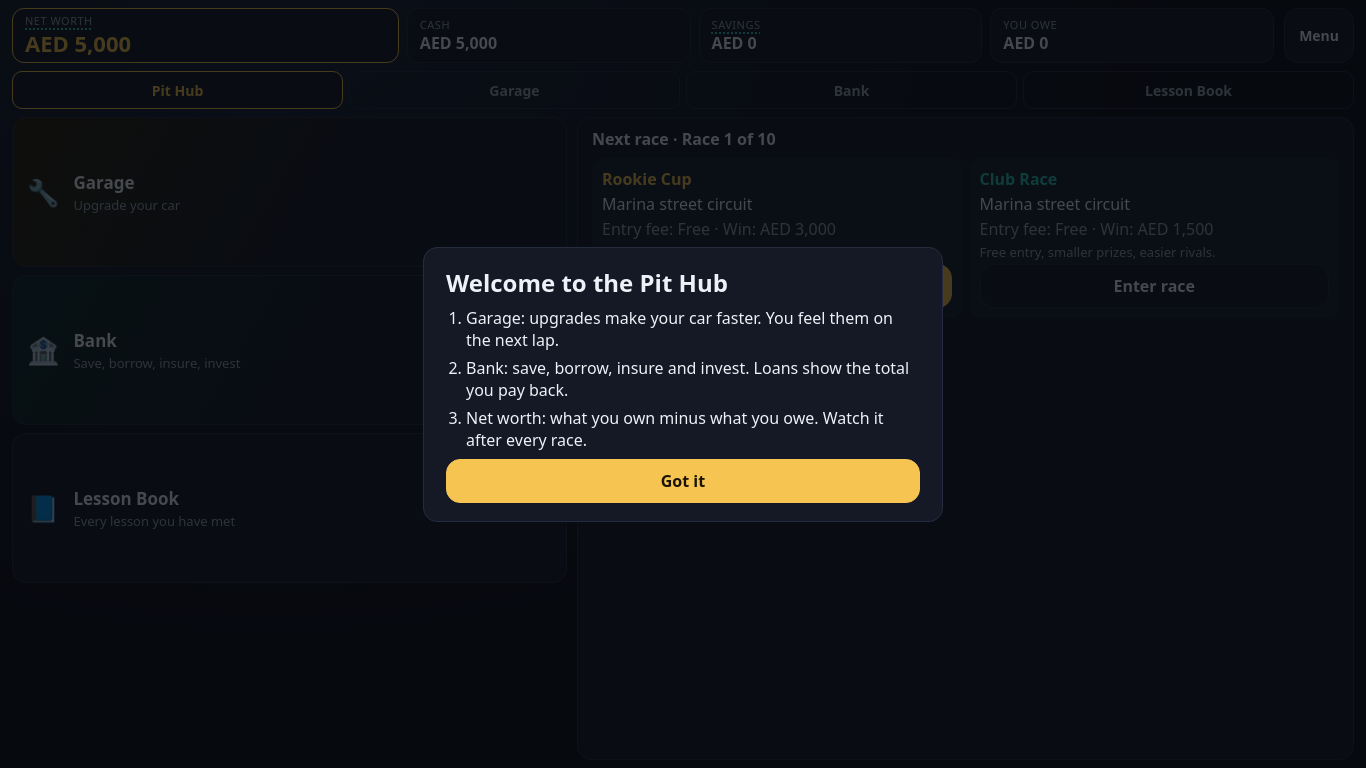
Test: Pit Hub ↔ engine › first visit shows three tips once
Expected: the number of list items is 3, [466,306,920,350]; [466,356,920,400]; [466,406,920,450]
Click the button with test id "tips-ok" at (683, 480), box [446,458,920,502]
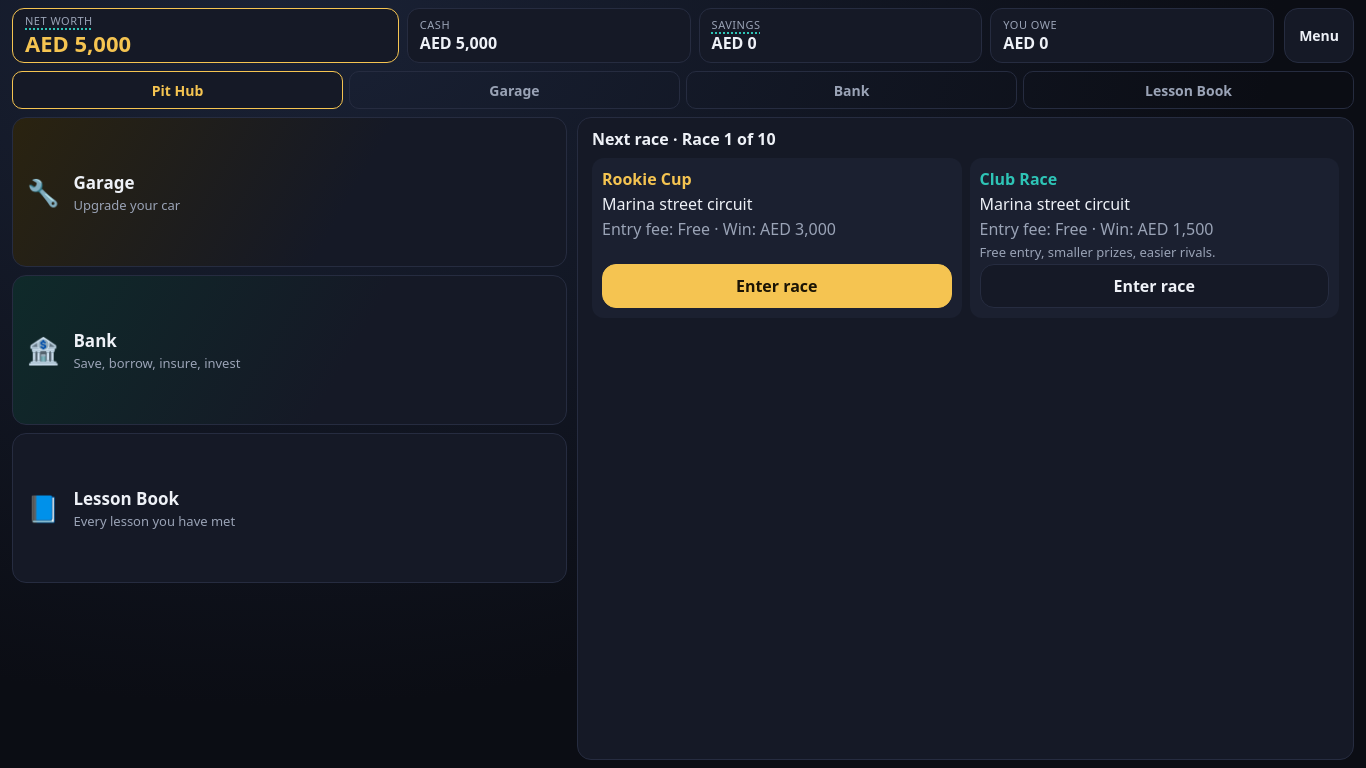
Expected: the element with test id "pit-tips" is gone
